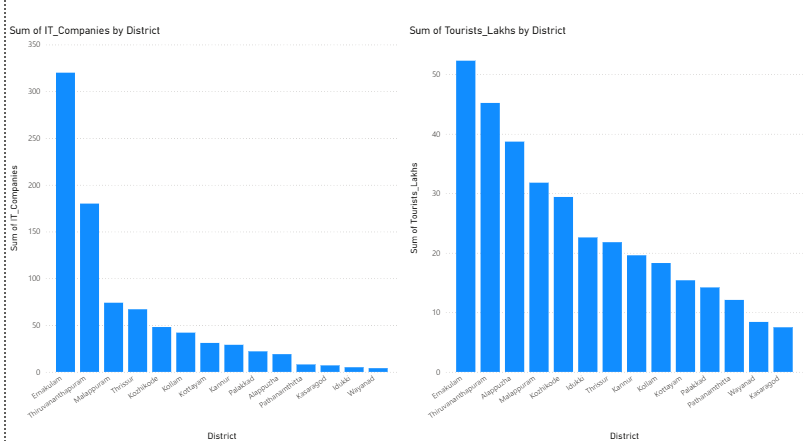

What the dashboard file says about the page in this screenshot:
{"tool":"powerbi","page":{"name":"Page 2","canvas":[1280,720],"ordinal":1},"visuals":[{"type":"clusteredColumnChart","fields":{"Category":["kerala_dashboard_dataset.District"],"Y":["Sum(kerala_dashboard_dataset.IT_Companies)"]},"box":[0,48.3,631.7,671.7],"z":0},{"type":"clusteredColumnChart","fields":{"Y":["Sum(kerala_dashboard_dataset.Tourists_Lakhs)"],"Category":["kerala_dashboard_dataset.District"]},"box":[640,48.3,640,671.7],"z":1}]}

Visuals, with their boxes in screenshot pixels (x1, y1, x2, y2), scaled from the page's 1280x720 canvas onto the 806x441 screenshot:
clusteredColumnChart - kerala_dashboard_dataset.District x Sum(kerala_dashboard_dataset.IT_Companies): Rect(0, 30, 398, 440)
clusteredColumnChart - Sum(kerala_dashboard_dataset.Tourists_Lakhs) x kerala_dashboard_dataset.District: Rect(403, 30, 805, 440)
